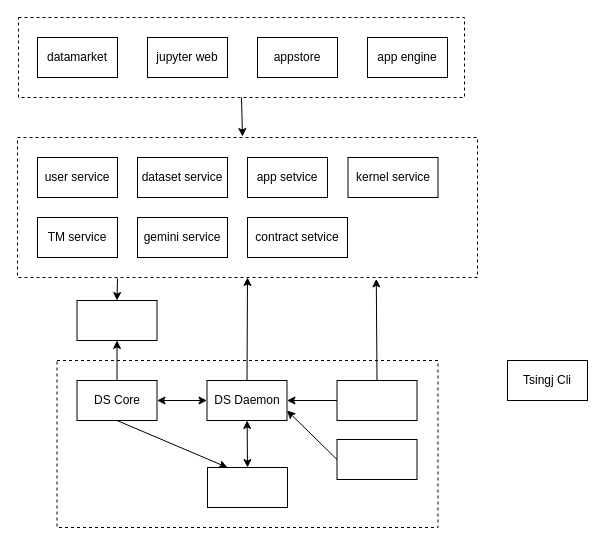
Image size: 605x545. Some labels were removed from this diagram. The shapes that lost their labels are listed below. From the top down, each one's box as (x1, y1, x2, y2) in pixels, then its label:
(76, 300, 157, 340): ES Cluster
(336, 380, 417, 420): Jupyter
(336, 438, 417, 480): DS Console
(206, 466, 288, 508): DS Cluster
